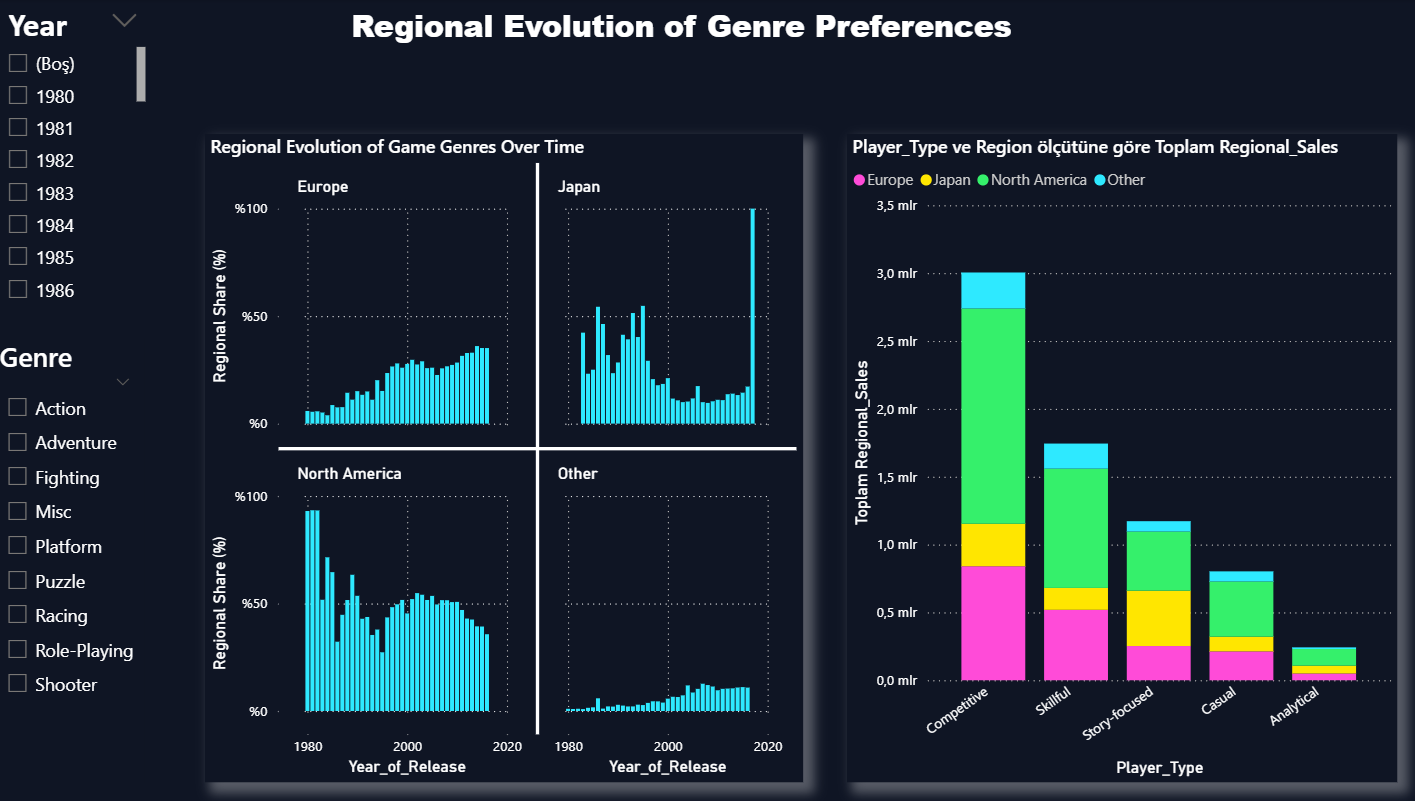

The page's visual inventory and layout, read from the dashboard file:
{"tool":"powerbi","page":{"name":"Page 4","canvas":[1280,720],"ordinal":5},"visuals":[{"type":"lineClusteredColumnComboChart","title":"Regional Evolution of Game Genres Over Time","fields":{"Category":["GY_vg_sales_by_region.Year_of_Release"],"Rows":["GY_vg_sales_by_region.Region"],"Y":["GY_vg_sales_by_region.Regional Share (%)"]},"box":[189.4,121.2,536.9,581.7],"z":0},{"type":"slicer","title":"Genre","fields":{"Values":["GY_vg_sales_by_region.Genre"]},"box":[0,304.3,134.7,398.6],"z":1000},{"type":"textbox","box":[779,121,501,582],"z":2000},{"type":"textbox","box":[289.1,0,656.3,58.4],"z":3000},{"type":"columnChart","fields":{"Category":["GY_vg_sales_by_region.Player_Type"],"Series":["GY_vg_sales_by_region.Region"],"Y":["Sum(GY_vg_sales_by_region.Regional_Sales)"]},"box":[765.8,121.2,493.8,581.7],"z":4000},{"type":"slicer","fields":{"Values":["GY_vg_sales_by_region.Year_of_Release"]},"box":[0,0,140.9,284.6],"z":5000}]}

Visuals, with their boxes on the page's 1280x720 design canvas (x1, y1, x2, y2). These are canvas units, not pixel positions in the 1415x801 screenshot, which may show the page scaled, cropped or inside an application window:
"Regional Evolution of Game Genres Over Time" lineClusteredColumnComboChart: [left=189, top=121, right=726, bottom=703]
"Genre" slicer: [left=0, top=304, right=135, bottom=703]
textbox: [left=779, top=121, right=1280, bottom=703]
textbox: [left=289, top=0, right=945, bottom=58]
columnChart - GY_vg_sales_by_region.Player_Type x GY_vg_sales_by_region.Region: [left=766, top=121, right=1260, bottom=703]
slicer - GY_vg_sales_by_region.Year_of_Release: [left=0, top=0, right=141, bottom=285]
